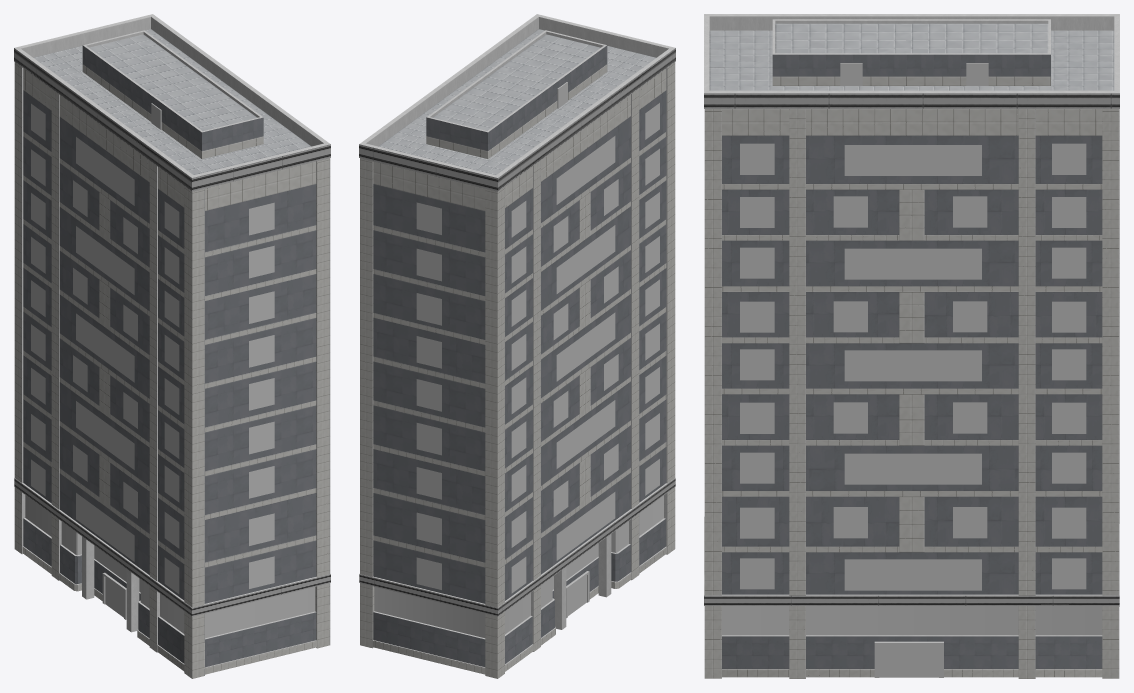
File: House_GT.fbx
3 renders of one model, left to right at view 1: azimuth 30°, elevation 25°; view 2: azimuth 150°, elevation 25°; view 3: azimuth 270°, elevation 25°, orthographic. The views are drawn at different scales.
Parts seen in each view (by area): view 1: HouseGT; view 2: HouseGT; view 3: HouseGT.
Part boxes in pixels (bbox=[...]): HouseGT: bbox=[14, 14, 330, 678]; HouseGT: bbox=[359, 14, 675, 678]; HouseGT: bbox=[704, 14, 1119, 678].
Size of what is drawn, in the model's own units: 16.36 by 57.91 by 36.22.
